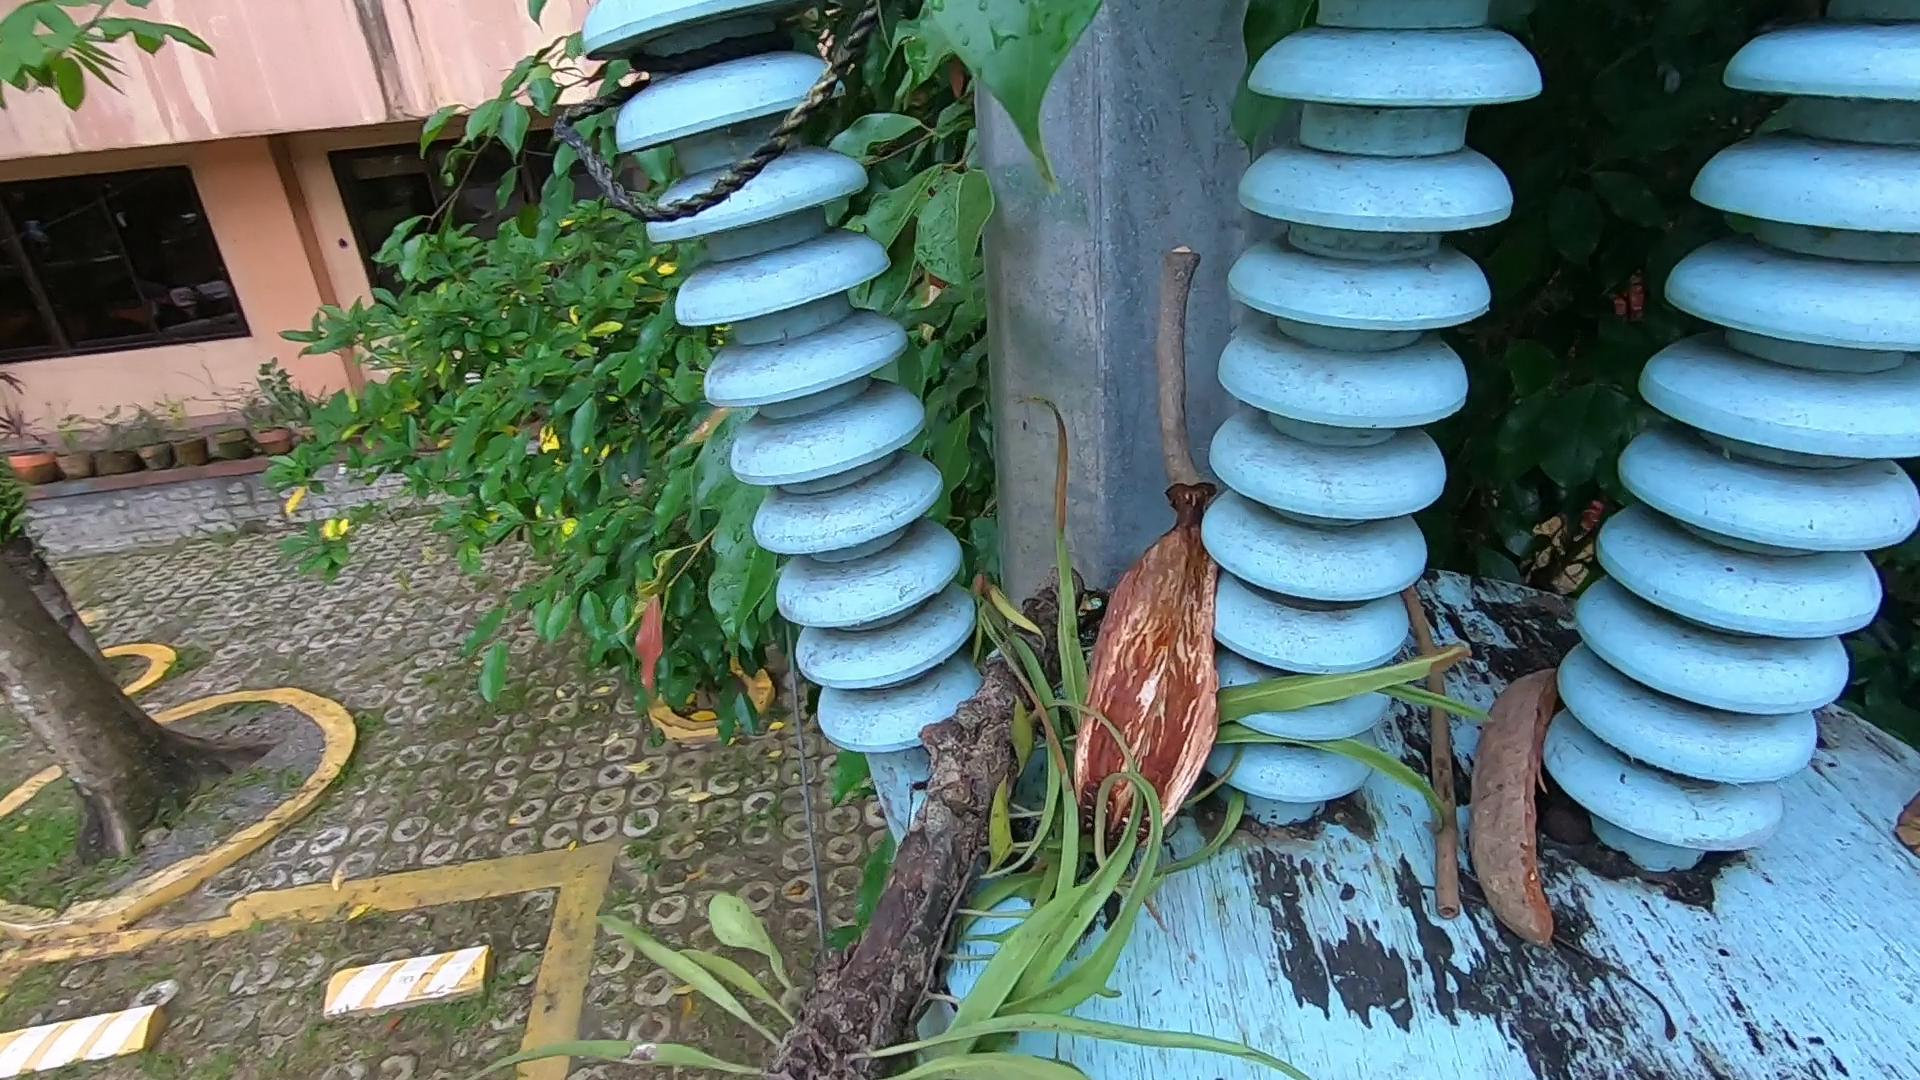branch with leaves: (464, 401, 1485, 1080)
leaf: (1894, 789, 1920, 847)
mahogany fruit: (1004, 446, 1320, 861), (1451, 657, 1611, 982)
tree branch: (1127, 222, 1261, 526), (1400, 574, 1491, 916)
